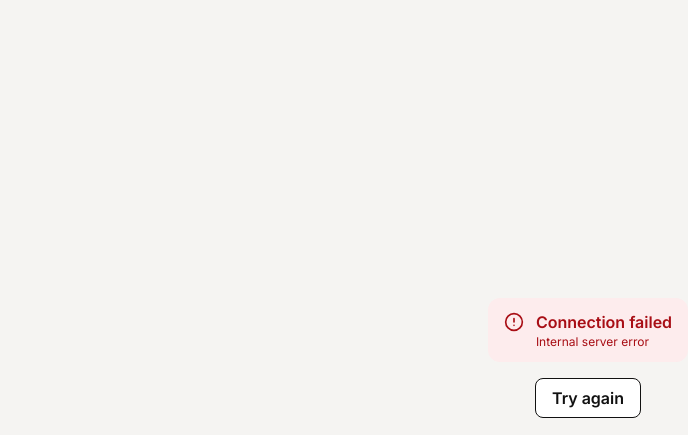
Test: AuthBootstrap › when the first check fails › checks again with Try again, and shows the app when that works
Later steps or results of the test are not shown.
Step 1. Click the button "Try again" → (588, 398), box [535, 378, 641, 418]
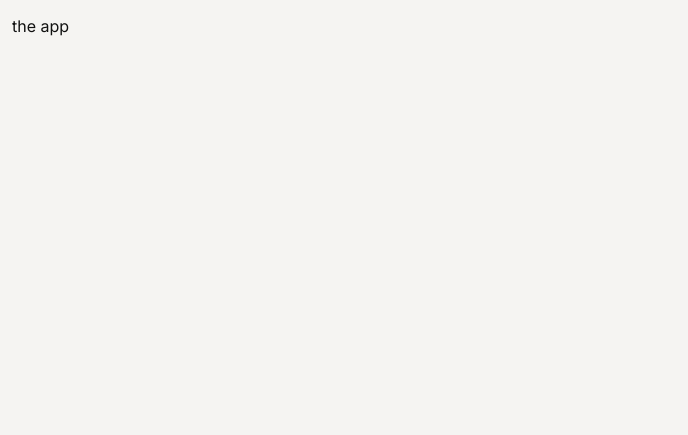
Now the button "Try again" is gone
Now the text "the app" is shown, box [12, 16, 69, 36]
Now the message "Connection failed Internal server error" is gone
